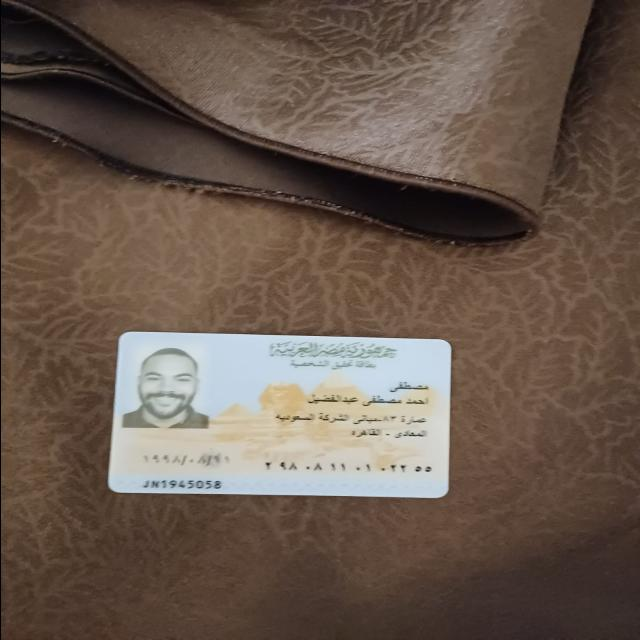ID-cards: (101, 326, 459, 503)
